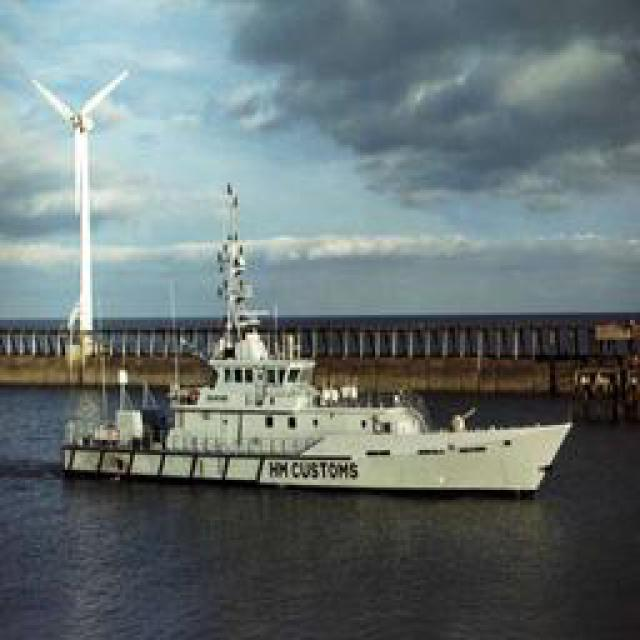Ship: (59, 391, 579, 494)
